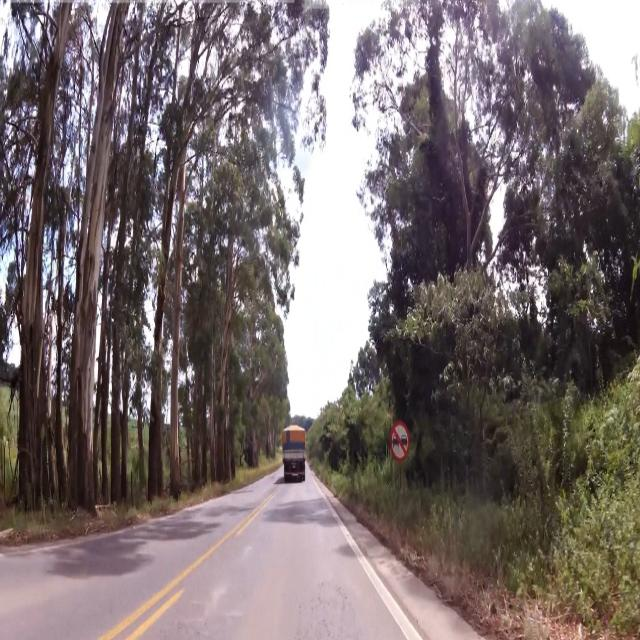R-7: (389, 417, 413, 463)
